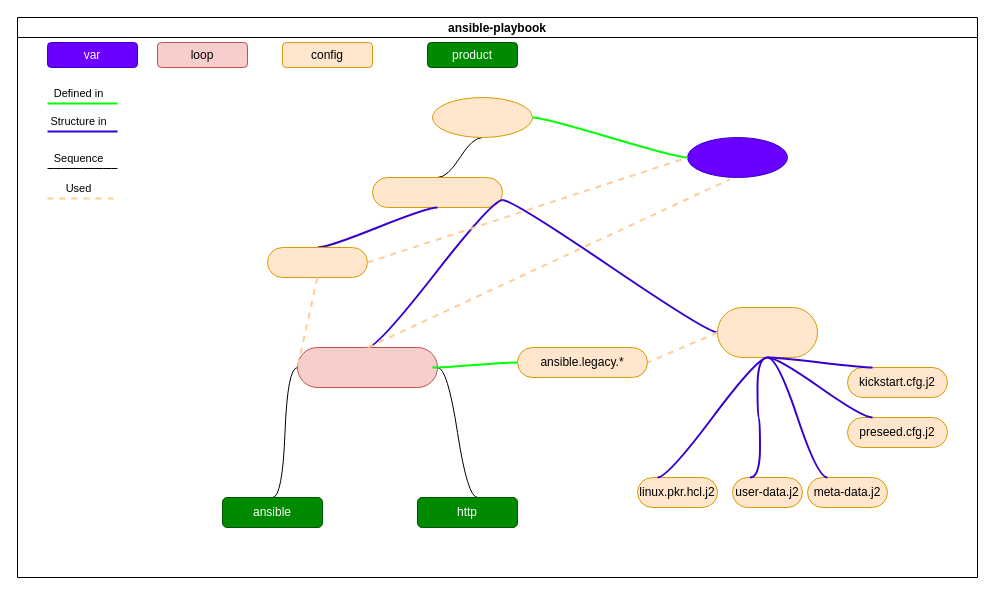
Some shapes in this 995 by 595 pixel diagram are drawn without their labels. The shapes that lost their labels are listed below. From the top down, each one's box as (x1, y1, x2, y2) in pixels, then its label:
(432, 96, 532, 138): build-packer-templates.yaml
(686, 136, 788, 178): vars.images
(372, 176, 502, 208): roles build_packer_templates
(266, 246, 368, 278): tasks main.yaml
(716, 306, 818, 358): templates {{*}}.j2
(296, 346, 438, 388): tasks {{item.yaml}}.yaml
